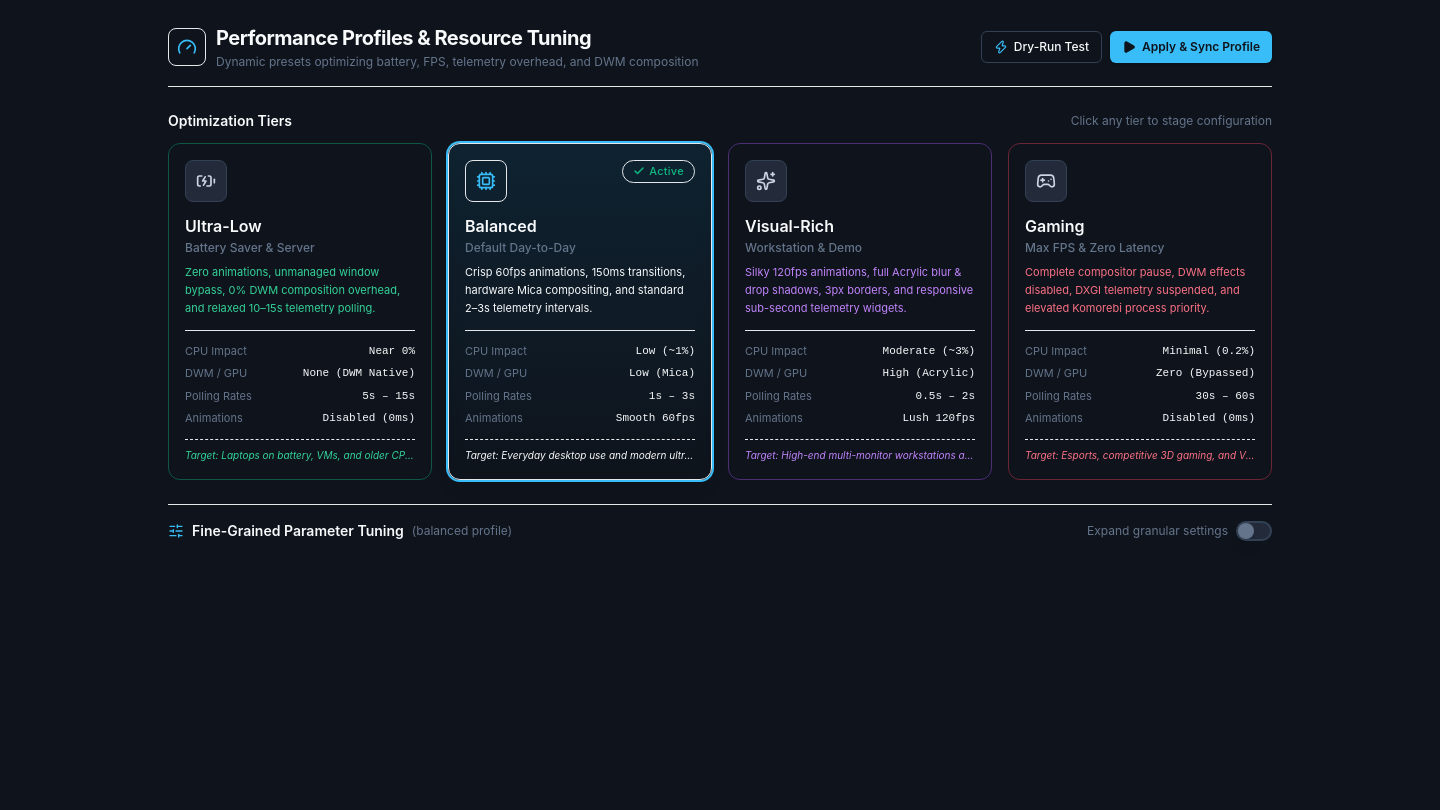
Test: PerformanceView Component › performs a dry-run test and displays the execution log
This screenshot has width=1440, height=810.
Click the button "Dry-Run Test". click: x=1041, y=47
box: [981,31,1102,63]
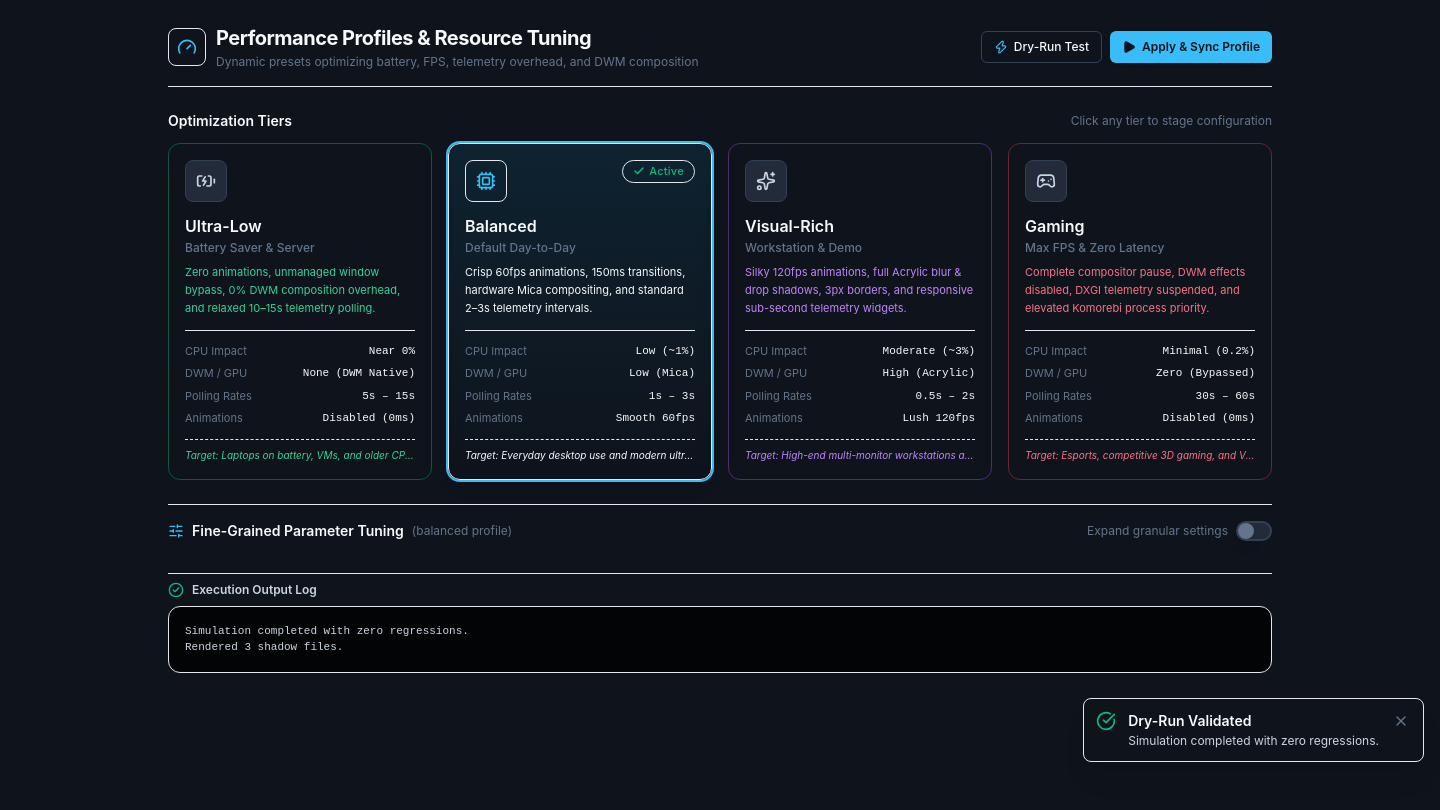
expect the text "Execution Output Log" is shown: met, box [168,582,317,598]
